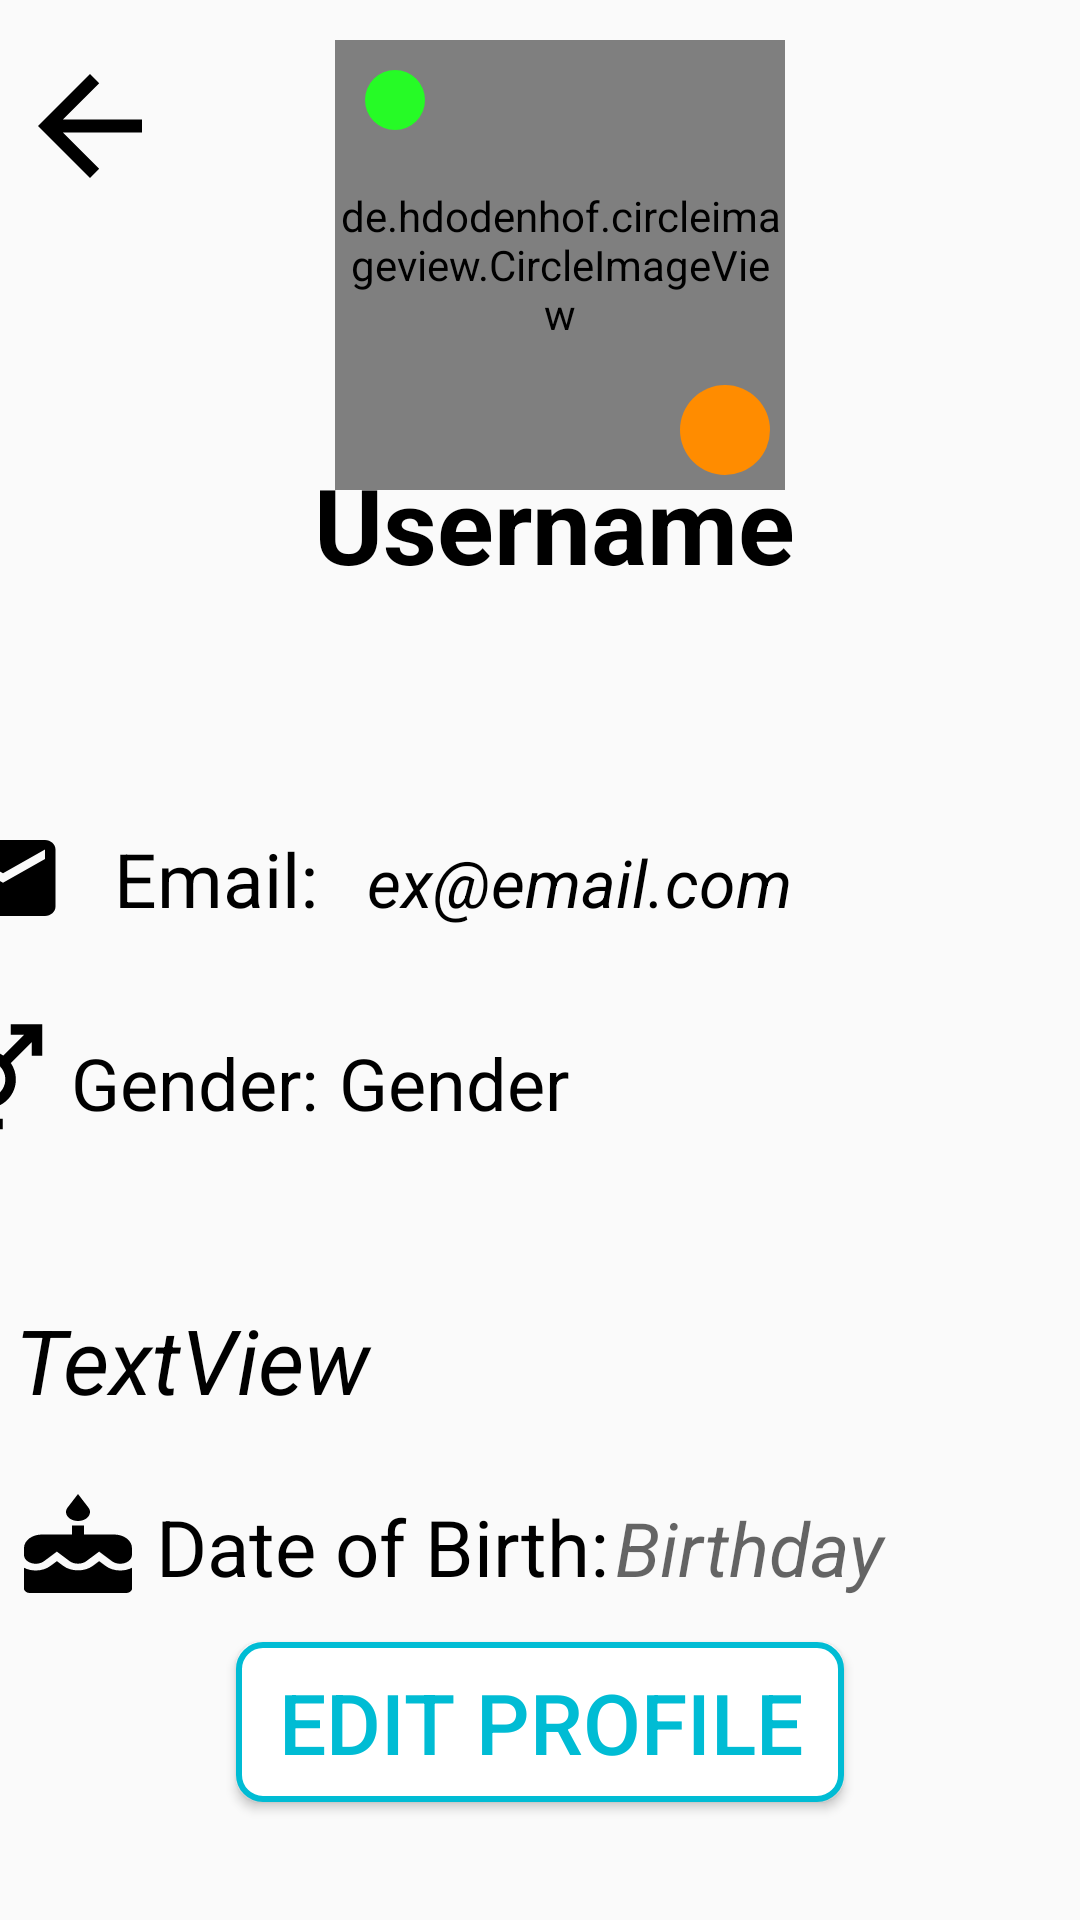

Where to tap for icons on this 1080 x 1920 app screen, as (x,y):
back arrow: (90,126)
